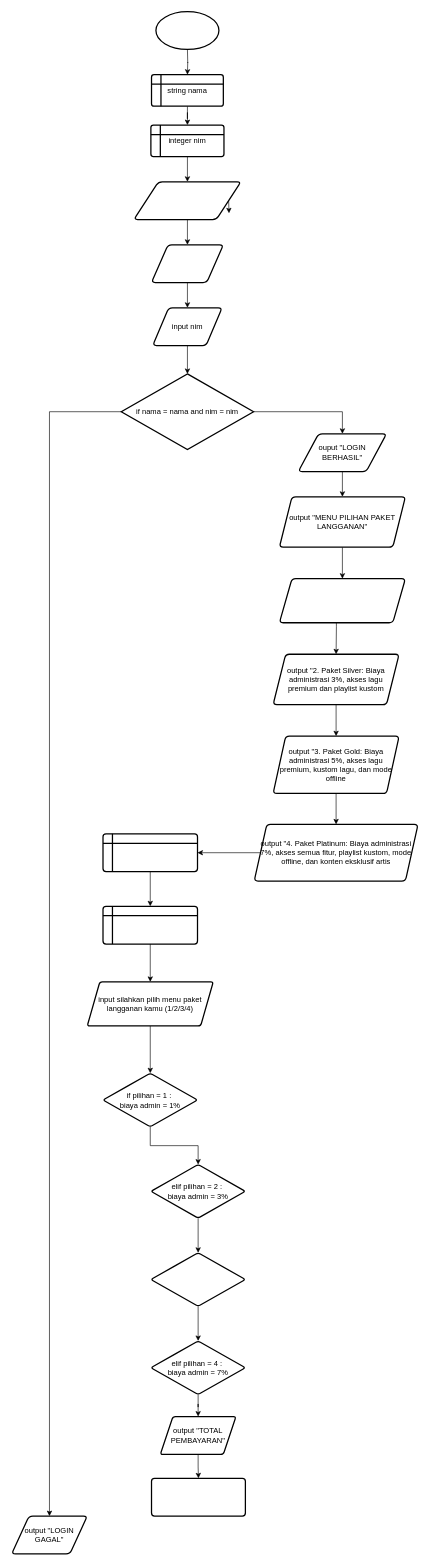
This 429x1565 diagram has some shape labels left out. Each missing label, with the centre of its shape:
biaya langganan = 1500000: (x=150, y=852)
elif pilihan = 3 : biaya admin = 5%: (x=198, y=1279)
input nama: (x=187, y=263)
mulai: (x=187, y=30)
output "1. Paket Bronze: Biaya administrasi 1%, akses dasar ke lagu populer: (x=342, y=600)
output "LOGIN AKUN": (x=187, y=200)
pilihan = (1/2/3/4): (x=150, y=924)
total bayar = biaya langganan + (biaya langganan * biaya admin: (x=198, y=1496)
